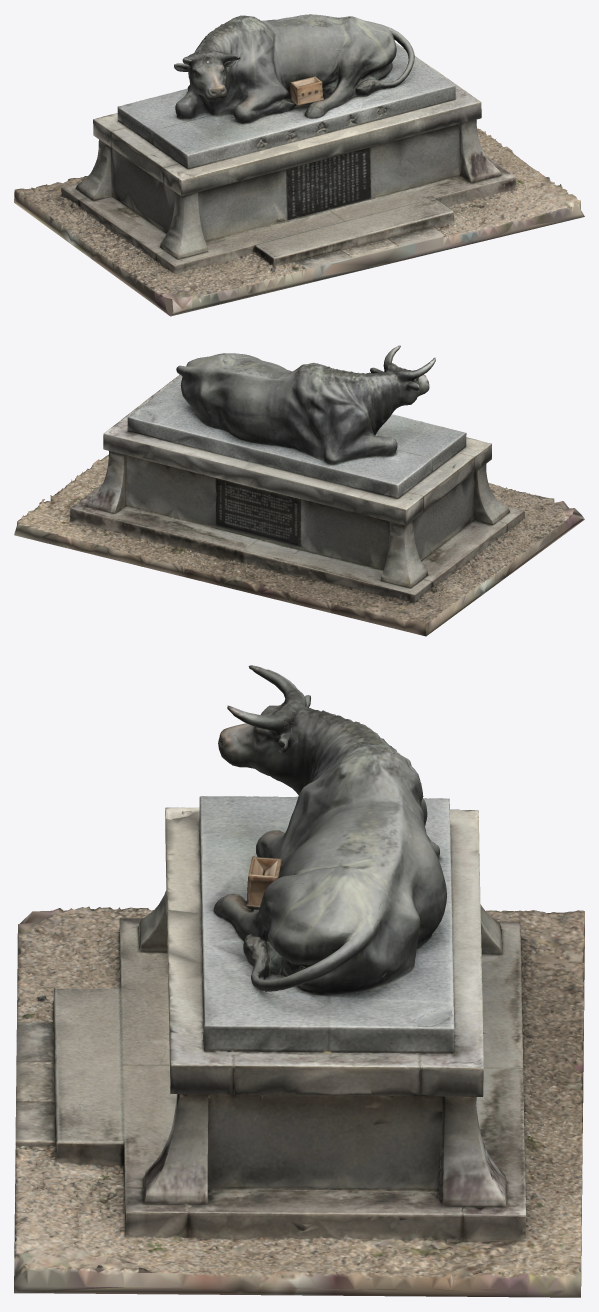
Rendered from cow.glb.
3 views of the same model, one above another, from view 1: azimuth 30°, elevation 25°; view 2: azimuth 150°, elevation 25°; view 3: azimuth 270°, elevation 25° (orthographic). The views are drawn at different scales.
Visible parts, largest first — view 1: Object_2; view 2: Object_2; view 3: Object_2.
Boxes of the visible parts, <box> form: Object_2: <box>14,14,584,316</box>; Object_2: <box>14,345,584,636</box>; Object_2: <box>14,665,584,1297</box>.
Size of the model in its own units: 50.07 by 21.99 by 33.19.
Materials: 1 (1 with a texture image).
